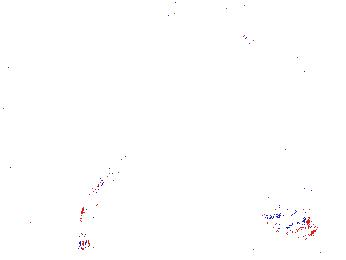X-ray fish: (266, 210, 310, 234)
glassfish: (192, 125, 268, 193), (78, 151, 129, 247)
red belly glassfish: (242, 28, 268, 47)
redtail glassfish: (163, 1, 236, 25)
